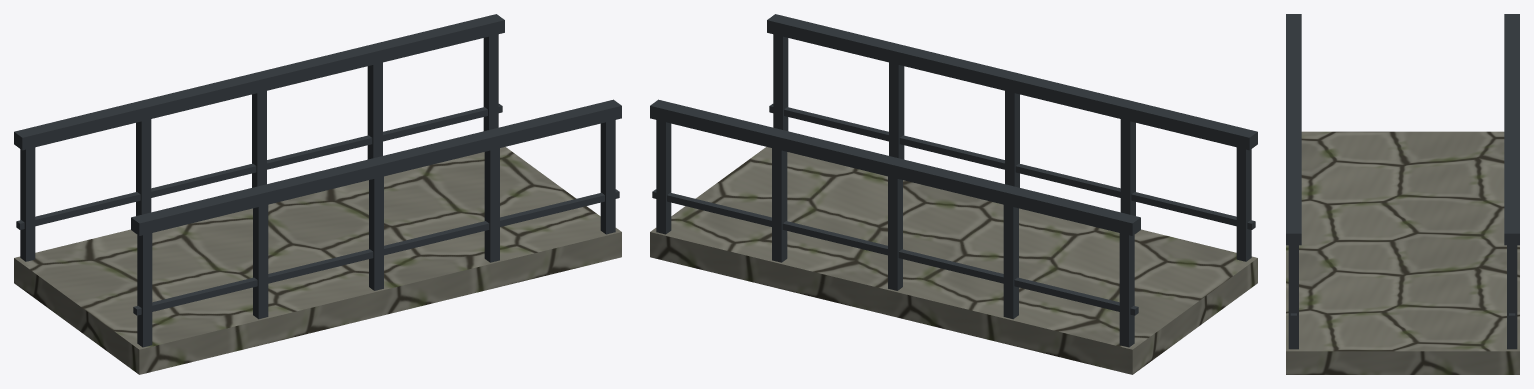
File: Furn_SkyBridge.fbx
The picture shows the model from 3 angles, left to right: view 1: azimuth 30°, elevation 25°; view 2: azimuth 150°, elevation 25°; view 3: azimuth 270°, elevation 25°; orthographic projection. The views are drawn at different scales.
Parts seen in each view (by area): view 1: Furn_SkyBridge_Mesh; view 2: Furn_SkyBridge_Mesh; view 3: Furn_SkyBridge_Mesh.
Part boxes in pixels (x1,y1,x2,y2): Furn_SkyBridge_Mesh: (14,14,621,374); Furn_SkyBridge_Mesh: (650,14,1257,374); Furn_SkyBridge_Mesh: (1286,14,1519,374).
Bounding box in the file's own units: 4 × 1.2 × 1.8.
